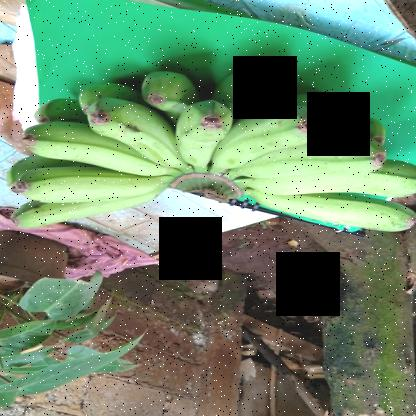freshunripe: (20, 119, 172, 177), (235, 135, 394, 190), (213, 108, 323, 180), (259, 192, 415, 240), (6, 191, 160, 230), (12, 174, 171, 208), (168, 100, 235, 172), (207, 70, 272, 122), (134, 66, 199, 116)
